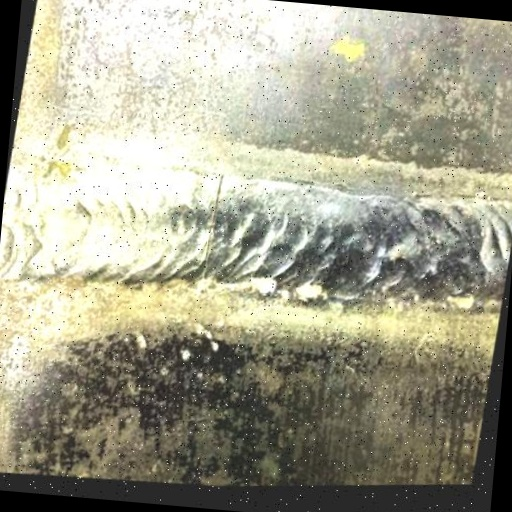crack: (183, 167, 242, 297)
